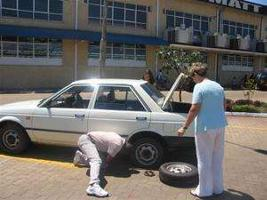person: (74, 132, 133, 200)
